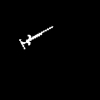double_crochet: (20, 27, 52, 48)
